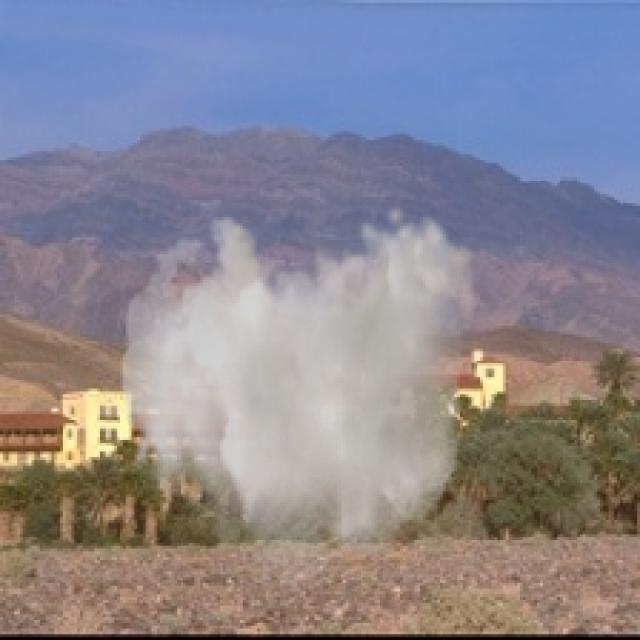Smoke: (120, 200, 477, 606)
